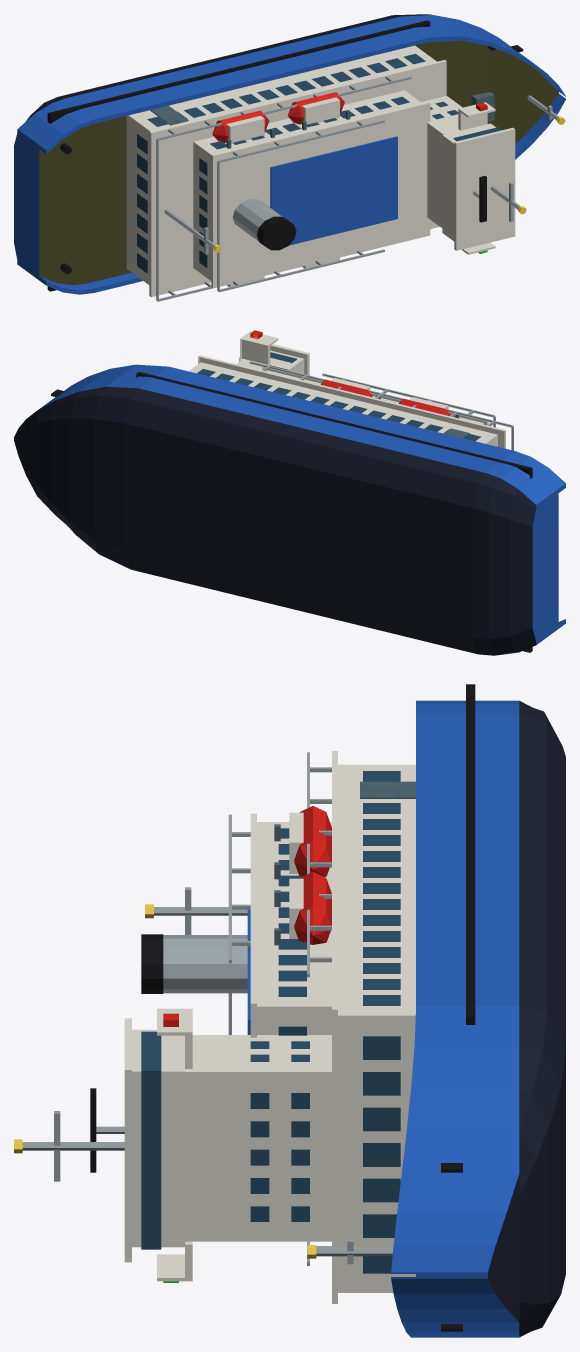
3 views of the same model, one above another, from view 1: azimuth 30°, elevation 25°; view 2: azimuth 150°, elevation 25°; view 3: azimuth 270°, elevation 25° (orthographic). The views are drawn at different scales.
Parts seen in each view (by area): view 1: default_hull, default_sun_deck, default_saloon_roof, default_sun_deck_panel, default_saloon, default_bridge_roof, default_upper, default_tower, default_saloon_win01, default_rubbing_strake, default_bridge, default_saloon_bwin0 (+16 smaller); view 2: default_hull, default_saloon, default_saloon_roof, default_rubbing_strake, default_saloon_win01, default_bridge_wing1, default_promenade_top1, default_sun_rails_top1, default_bridge; view 3: default_hull, default_tower, default_saloon, default_upper, default_bridge, default_saloon_win01, default_saloon_fwin0, default_funnel, default_bridge_glass, default_rubbing_strake, default_saloon_roof, default_upper_win01 (+9 smaller).
Part boxes in pixels (bbox=[...]): default_hull: bbox=[14, 14, 565, 294]; default_sun_deck: bbox=[211, 101, 430, 288]; default_saloon_roof: bbox=[149, 60, 446, 297]; default_sun_deck_panel: bbox=[270, 136, 397, 245]; default_saloon: bbox=[126, 45, 436, 284]; default_bridge_roof: bbox=[454, 127, 515, 250]; default_upper: bbox=[193, 90, 421, 280]; default_tower: bbox=[421, 96, 462, 227]; default_saloon_win01: bbox=[147, 53, 425, 126]; default_rubbing_strake: bbox=[47, 20, 430, 291]; default_bridge: bbox=[442, 123, 495, 241]; default_saloon_bwin0: bbox=[137, 134, 147, 273]; default_hull: bbox=[14, 364, 565, 655]; default_saloon: bbox=[189, 362, 497, 446]; default_saloon_roof: bbox=[198, 355, 505, 448]; default_rubbing_strake: bbox=[136, 372, 532, 652]; default_saloon_win01: bbox=[197, 369, 480, 441]; default_bridge_wing1: bbox=[240, 337, 270, 365]; default_promenade_top1: bbox=[249, 361, 513, 427]; default_sun_rails_top1: bbox=[322, 373, 494, 417]; default_bridge: bbox=[239, 350, 304, 373]; default_hull: bbox=[391, 700, 565, 1337]; default_tower: bbox=[185, 1035, 331, 1241]; default_saloon: bbox=[338, 764, 415, 1292]; default_upper: bbox=[257, 822, 331, 1034]; default_bridge: bbox=[132, 1029, 184, 1247]; default_saloon_win01: bbox=[363, 771, 400, 1005]; default_saloon_fwin0: bbox=[363, 1036, 400, 1273]; default_funnel: bbox=[163, 935, 247, 993]; default_bridge_glass: bbox=[141, 1031, 161, 1249]; default_rubbing_strake: bbox=[466, 684, 475, 1024]; default_saloon_roof: bbox=[332, 751, 337, 1303]; default_upper_win01: bbox=[278, 828, 306, 996].
Bounding box in the file's own units: 17 × 5.6 × 8.84.
